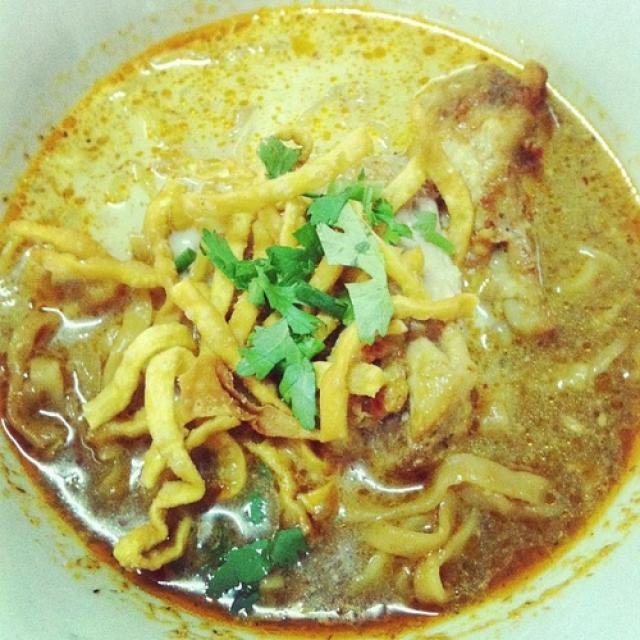面条主食: (4, 10, 631, 636)
